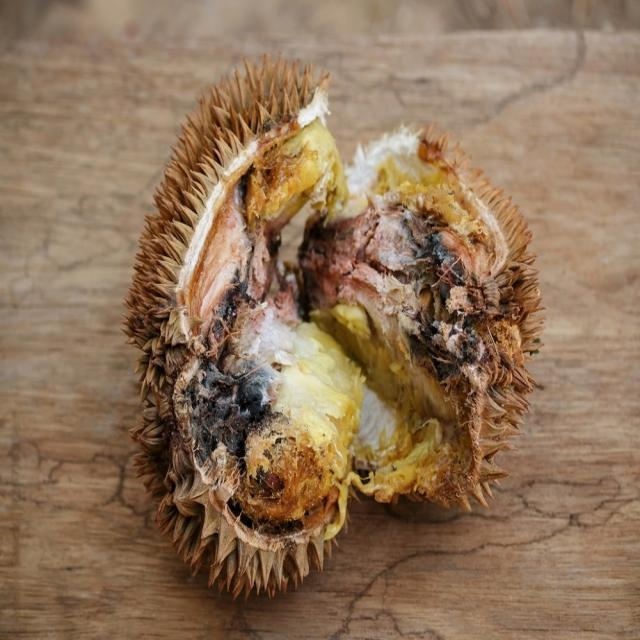defective: (121, 50, 548, 602)
